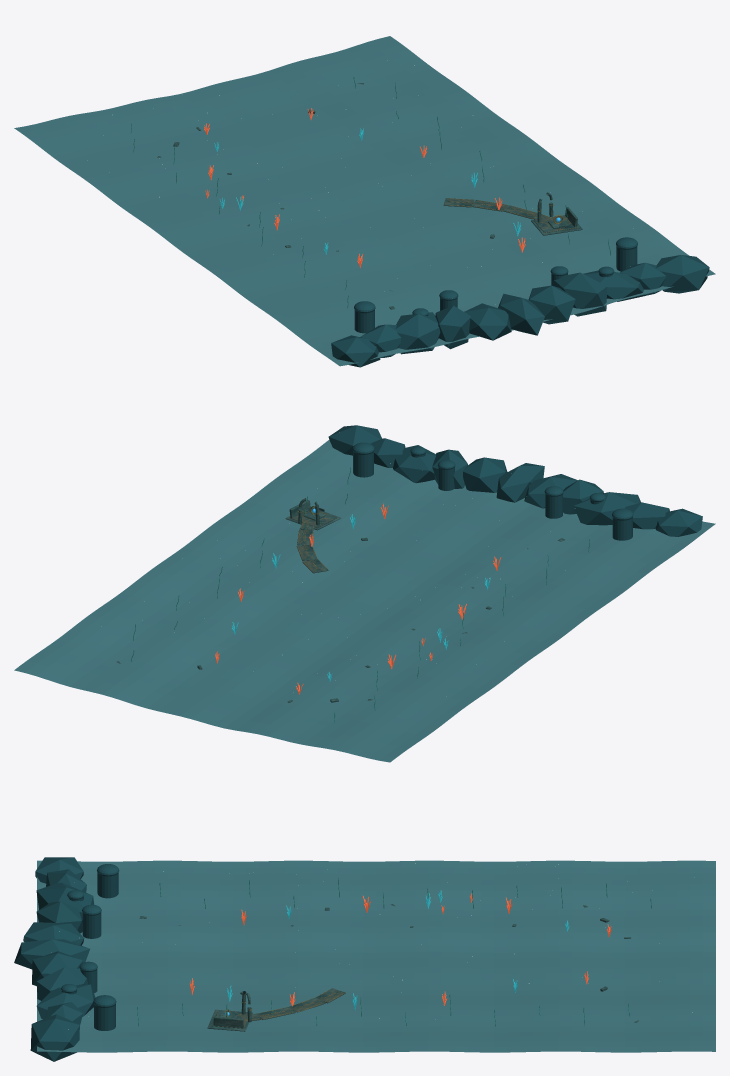
The model's file is atlantis-environment.glb.
3 views of the same model, one above another, from view 1: azimuth 30°, elevation 25°; view 2: azimuth 150°, elevation 25°; view 3: azimuth 270°, elevation 25° (orthographic). The views are drawn at different scales.
Visible parts, largest first — view 1: Seabed, RearRidge_10, RearRidge_02, RearRidge_07, RearRidge_06, RearRidge_04, RearRidge_05, RearRidge_00, RearRidge_03, RearRidge_08, RearRidge_09, RearRidge_01; view 2: Seabed, RearRidge_02, RearRidge_05, RearRidge_06, RearRidge_08, RearRidge_00, RearRidge_10, RearRidge_04, RearRidge_01, RearRidge_03, RearRidge_09, RearRidge_07; view 3: Seabed, RearRidge_10, RearRidge_05, RearRidge_08, RearRidge_04, RearRidge_02, RearRidge_06, RearRidge_03, RearRidge_07, RearRidge_00, RearRidge_01, DistantCityTower_05 (+3 smaller).
Part boxes in pixels (x1,y1,x2,y2): Seabed: (14,36,715,366); RearRidge_10: (656,255,709,293); RearRidge_02: (395,312,440,354); RearRidge_07: (551,272,606,316); RearRidge_06: (528,285,575,324); RearRidge_04: (464,303,511,340); RearRidge_05: (498,293,544,335); RearRidge_00: (331,335,380,367); RearRidge_03: (435,305,471,349); RearRidge_08: (583,270,645,301); RearRidge_09: (620,262,666,295); RearRidge_01: (360,324,401,357); Seabed: (14,440,715,762); RearRidge_02: (573,492,640,525); RearRidge_05: (496,463,544,502); RearRidge_06: (463,457,507,492); RearRidge_08: (393,445,435,483); RearRidge_00: (655,508,702,536); RearRidge_10: (328,425,381,455); RearRidge_04: (524,474,577,508); RearRidge_01: (625,502,669,529); RearRidge_03: (563,479,603,514); RearRidge_09: (371,438,405,467); RearRidge_07: (432,449,467,488); Seabed: (37,860,715,1052); RearRidge_10: (30,1014,79,1061); RearRidge_05: (14,939,89,969); RearRidge_08: (36,984,95,1019); RearRidge_04: (23,922,84,945); RearRidge_02: (36,882,94,923); RearRidge_06: (32,951,82,986); RearRidge_03: (36,901,82,933); RearRidge_07: (36,967,88,1000); RearRidge_00: (35,857,83,883); RearRidge_01: (46,869,86,892); DistantCityTower_05: (94,1004,115,1030).
Bounding box in the file's own units: 70 × 18.44 × 109.
Materials: 11 (4 with a texture image).
